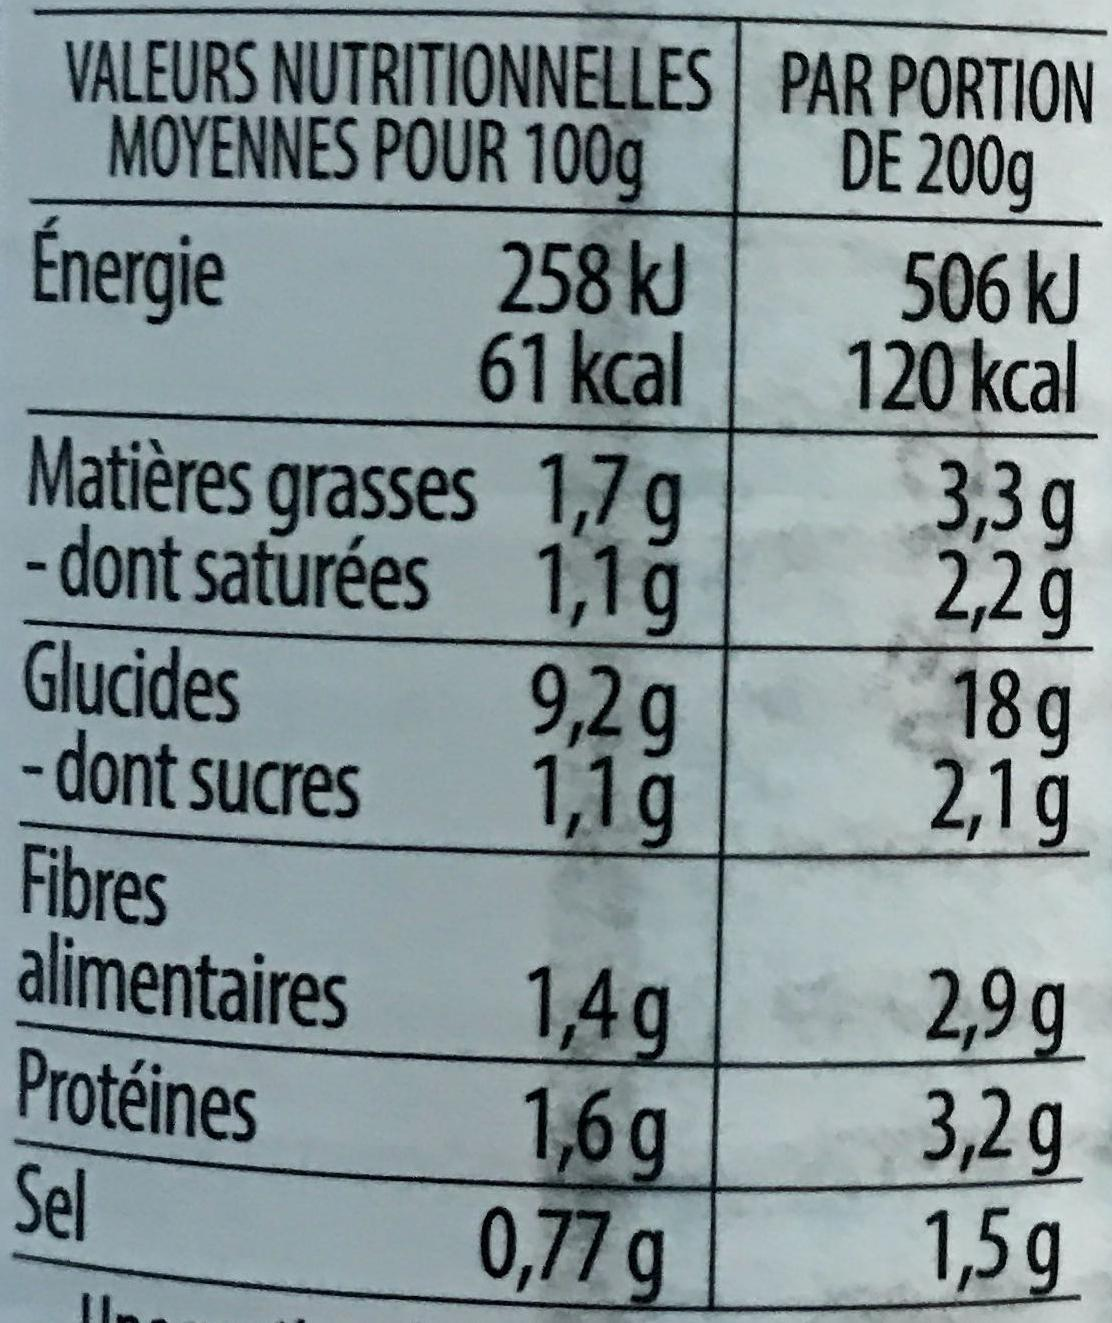column: (23, 212, 451, 1255), (778, 51, 1098, 1297), (481, 239, 688, 1297)
line: (21, 1055, 1062, 1171), (23, 646, 1078, 746), (21, 1178, 1071, 1278), (33, 227, 1088, 326), (29, 439, 1074, 532), (18, 941, 1069, 1032), (23, 841, 1072, 931), (28, 538, 1079, 625), (26, 751, 1074, 837), (30, 331, 1081, 412), (64, 39, 1094, 115), (62, 121, 1089, 198)
table: (1, 1, 1106, 1302)
